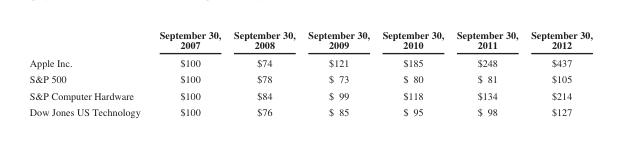table: (28, 28, 591, 117)
table column: (28, 28, 149, 117), (149, 28, 226, 117), (226, 28, 301, 117), (301, 28, 375, 117), (375, 28, 449, 117), (449, 28, 523, 117), (523, 28, 591, 117)
table column header: (28, 28, 591, 53)
table row: (28, 28, 591, 53), (28, 53, 591, 70), (28, 70, 591, 87), (28, 87, 591, 103), (28, 103, 591, 117)
